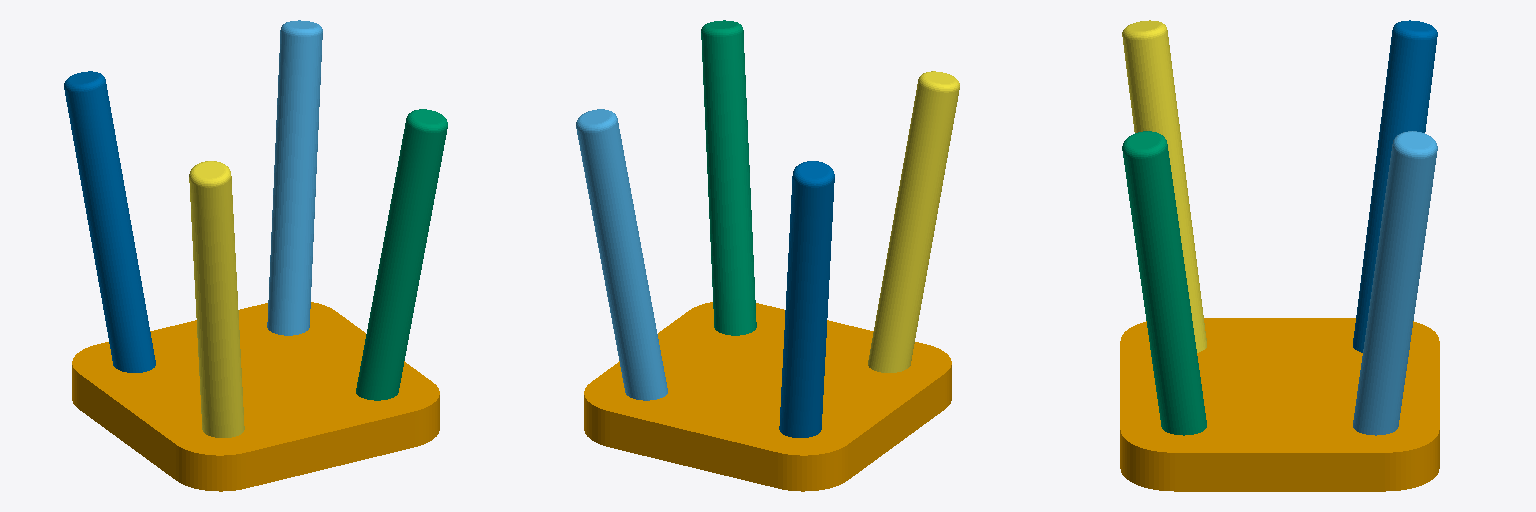
URDF robot description (flisat):
<?xml version="1.0" encoding="utf-8"?>
<robot name="flisat">
  <link name="flisat_plate_link">
    <contact>
      <lateral_friction value="1.0"/>
    </contact>
    <inertial>
      <origin rpy="0 0 0" xyz="0 0 0"/>
       <mass value=".0"/>
       <inertia ixx="1" ixy="0" ixz="0" iyy="1" iyz="0" izz="1"/>
    </inertial>
    <visual>
      <origin rpy="0 0 0" xyz="0 0 0"/>
      <geometry>
        <mesh filename="package://stool_description/meshes/flisat_plate.stl" scale="1 1 1"/>
      </geometry>
    </visual>
    <collision>
      <origin rpy="0 0 0" xyz="0 0 0"/>
      <geometry>
        <mesh filename="package://stool_description/meshes/flisat_plate.stl" scale="1 1 1" />
      </geometry>
    </collision>
  </link>

  <!--Leg 1-->
  <joint name="flisat_leg_1_joint" type="fixed">
    <origin xyz="0.071207 0.071207 0.028303" rpy="-0.11938 0.11938 0"/>
    <parent link="flisat_plate_link"/>
    <child link="flisat_leg_1_link"/>
  </joint>
  <link name="flisat_leg_1_link">
    <inertial>
      <origin rpy="0 0 0" xyz="0 0 0"/>
       <mass value=".0"/>
       <inertia ixx="1" ixy="0" ixz="0" iyy="1" iyz="0" izz="1"/>
    </inertial>
    <visual>
      <origin rpy="0 0 0" xyz="0 0 0"/>
      <geometry>
        <mesh filename="package://stool_description/meshes/flisat_leg.stl" scale="1 1 1" />
      </geometry>
    </visual>
    <collision>
      <origin rpy="0 0 0" xyz="0 0 0"/>
      <geometry>
        <mesh filename="package://stool_description/meshes/flisat_leg.stl" scale="1 1 1" />
      </geometry>
    </collision>
  </link>

  <!--Leg 2-->
  <joint name="flisat_leg_2_joint" type="fixed">
    <origin xyz="0.071207 -0.071207 0.028303" rpy="0.11938 0.11938 0"/>
    <parent link="flisat_plate_link"/>
    <child link="flisat_leg_2_link"/>
  </joint>
  <link name="flisat_leg_2_link">
    <inertial>
      <origin rpy="0 0 0" xyz="0 0 0"/>
       <mass value=".0"/>
       <inertia ixx="1" ixy="0" ixz="0" iyy="1" iyz="0" izz="1"/>
    </inertial>
    <visual>
      <origin rpy="0 0 0" xyz="0 0 0"/>
      <geometry>
        <mesh filename="package://stool_description/meshes/flisat_leg.stl" scale="1 1 1" />
      </geometry>
    </visual>
    <collision>
      <origin rpy="0 0 0" xyz="0 0 0"/>
      <geometry>
        <mesh filename="package://stool_description/meshes/flisat_leg.stl" scale="1 1 1" />
      </geometry>
    </collision>
  </link>

  <!--Leg 3-->
  <joint name="flisat_leg_3_joint" type="fixed">
    <origin xyz="-0.071207 -0.071207 0.028303" rpy="0.11938 -0.11938 0"/>
    <parent link="flisat_plate_link"/>
    <child link="flisat_leg_3_link"/>
  </joint>
  <link name="flisat_leg_3_link">
    <inertial>
      <origin rpy="0 0 0" xyz="0 0 0"/>
       <mass value=".0"/>
       <inertia ixx="1" ixy="0" ixz="0" iyy="1" iyz="0" izz="1"/>
    </inertial>
    <visual>
      <origin rpy="0 0 0" xyz="0 0 0"/>
      <geometry>
        <mesh filename="package://stool_description/meshes/flisat_leg.stl" scale="1 1 1" />
      </geometry>
    </visual>
    <collision>
      <origin rpy="0 0 0" xyz="0 0 0"/>
      <geometry>
        <mesh filename="package://stool_description/meshes/flisat_leg.stl" scale="1 1 1" />
      </geometry>
    </collision>
  </link>

  <!--Leg 4-->
  <joint name="flisat_leg_4_joint" type="fixed">
    <origin xyz="-0.071207 0.071207 0.028303" rpy="-0.11938 -0.11938 0"/>
    <parent link="flisat_plate_link"/>
    <child link="flisat_leg_4_link"/>
  </joint>
  <link name="flisat_leg_4_link">
    <inertial>
      <origin rpy="0 0 0" xyz="0 0 0"/>
       <mass value=".0"/>
       <inertia ixx="1" ixy="0" ixz="0" iyy="1" iyz="0" izz="1"/>
    </inertial>
    <visual>
      <origin rpy="0 0 0" xyz="0 0 0"/>
      <geometry>
        <mesh filename="package://stool_description/meshes/flisat_leg.stl" scale="1 1 1" />
      </geometry>
    </visual>
    <collision>
      <origin rpy="0 0 0" xyz="0 0 0"/>
      <geometry>
        <mesh filename="package://stool_description/meshes/flisat_leg.stl" scale="1 1 1" />
      </geometry>
    </collision>
  </link>


</robot>

--- Render facts (derived) ---
3 views of the same robot in one strip: view 1: azimuth 30°, elevation 25°; view 2: azimuth 150°, elevation 25°; view 3: azimuth 270°, elevation 25° (orthographic).
Robot: flisat — 5 links, 4 joints (4 fixed); root link flisat_plate_link; default pose: all joints at 0.
Visible links, largest first — view 1: flisat_plate_link, flisat_leg_1_link, flisat_leg_4_link, flisat_leg_2_link, flisat_leg_3_link; view 2: flisat_plate_link, flisat_leg_2_link, flisat_leg_3_link, flisat_leg_1_link, flisat_leg_4_link; view 3: flisat_plate_link, flisat_leg_1_link, flisat_leg_2_link, flisat_leg_4_link, flisat_leg_3_link.
Link boxes in pixels (x1,y1,x2,y2): flisat_plate_link: (72, 302, 439, 491); flisat_leg_1_link: (267, 20, 322, 335); flisat_leg_4_link: (64, 71, 155, 372); flisat_leg_2_link: (356, 109, 447, 400); flisat_leg_3_link: (189, 161, 244, 437); flisat_plate_link: (584, 302, 951, 491); flisat_leg_2_link: (701, 20, 756, 335); flisat_leg_3_link: (868, 71, 959, 372); flisat_leg_1_link: (576, 109, 667, 400); flisat_leg_4_link: (779, 161, 834, 437); flisat_plate_link: (1120, 318, 1439, 491); flisat_leg_1_link: (1353, 131, 1437, 435); flisat_leg_2_link: (1122, 131, 1206, 435); flisat_leg_4_link: (1353, 20, 1437, 352); flisat_leg_3_link: (1122, 20, 1206, 352).
Bounding box of the posed robot: 0.2389 × 0.2389 × 0.2835 m (x, y, z).
Meshes: 2 distinct files referenced, 5 mesh visuals loaded (2 binary STL).